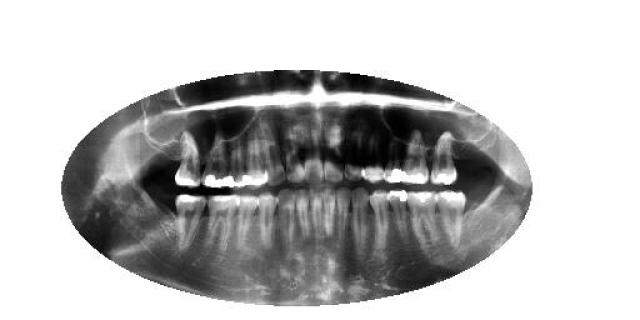Fillings: (435, 190, 466, 248), (174, 132, 204, 188), (401, 131, 430, 184), (202, 134, 230, 188), (430, 130, 458, 184), (242, 131, 268, 189), (410, 192, 435, 246), (386, 190, 409, 242), (384, 134, 404, 184), (228, 139, 246, 189)
